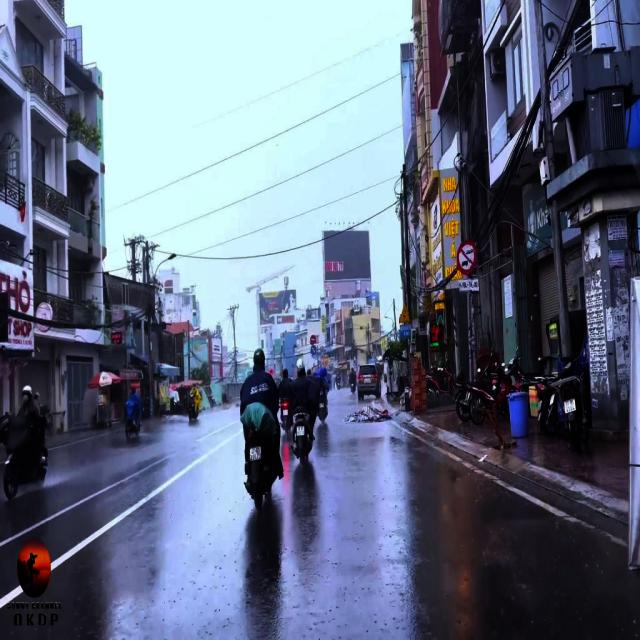cam_o_to_tai_va_xe_khach: (457, 240, 479, 278)
cam_xe_di_nguoc_chieu: (310, 334, 316, 345)
huong_phai_di_vuot_chuong_ngai_vat_phai: (311, 346, 317, 358)
khac: (457, 276, 479, 294), (399, 302, 412, 325)
